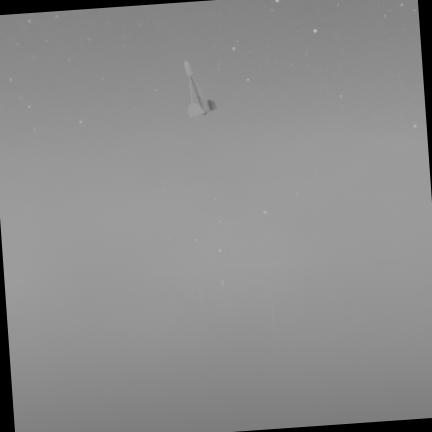Shahed: (185, 61, 216, 115)
